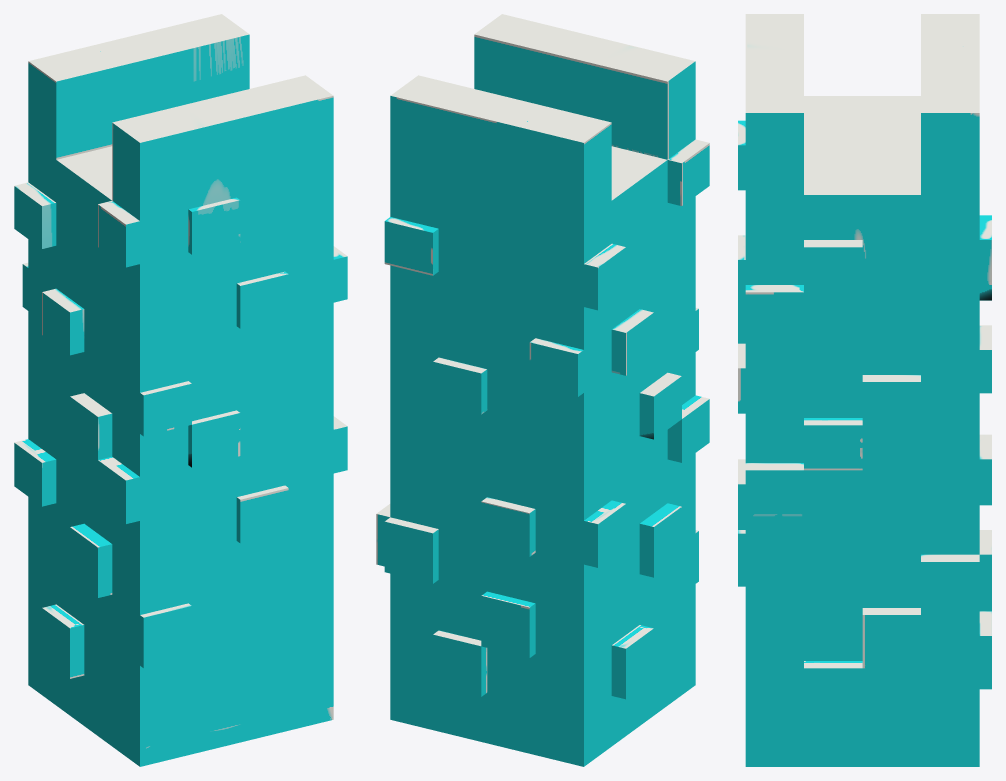
Rendered from iceWall.obj.
3 views of the same model, side by side, from view 1: azimuth 30°, elevation 25°; view 2: azimuth 150°, elevation 25°; view 3: azimuth 270°, elevation 25° (orthographic). The views are drawn at different scales.
Parts seen in each view (by area): view 1: Cube; view 2: Cube; view 3: Cube.
Part boxes in pixels (box(x1,y1,x2,y2)): Cube: box(14, 14, 347, 766); Cube: box(376, 14, 709, 766); Cube: box(738, 14, 991, 766).
Bounding box in the file's own units: 2.29 × 6.16 × 2.17.
1 material, 1 textured.
